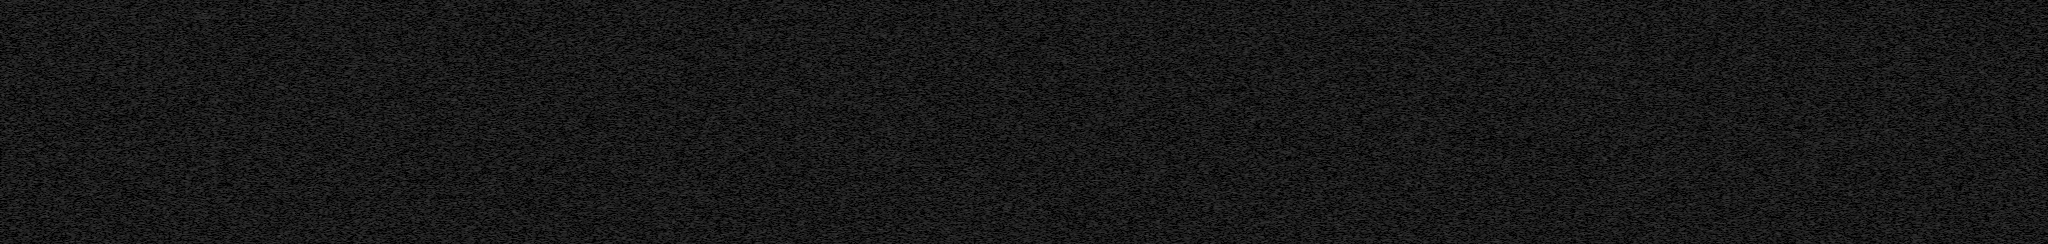wv_am: (165, 0, 168, 244)
wv_cw: (920, 0, 923, 244), (603, 0, 607, 244)
wv_lsb: (530, 1, 539, 244)
